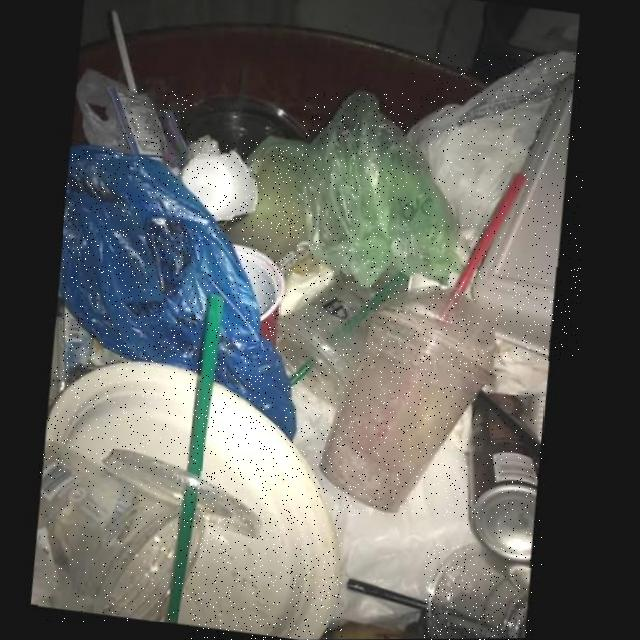metal: (467, 392, 544, 568)
plastic: (64, 147, 301, 441), (323, 291, 504, 516), (38, 443, 265, 621), (412, 53, 584, 266), (302, 93, 465, 291), (281, 273, 416, 389), (424, 544, 533, 639)
styrofoam: (179, 385, 342, 640), (474, 78, 581, 361), (48, 363, 203, 471), (184, 140, 265, 226)
wrapper: (116, 87, 194, 175)
